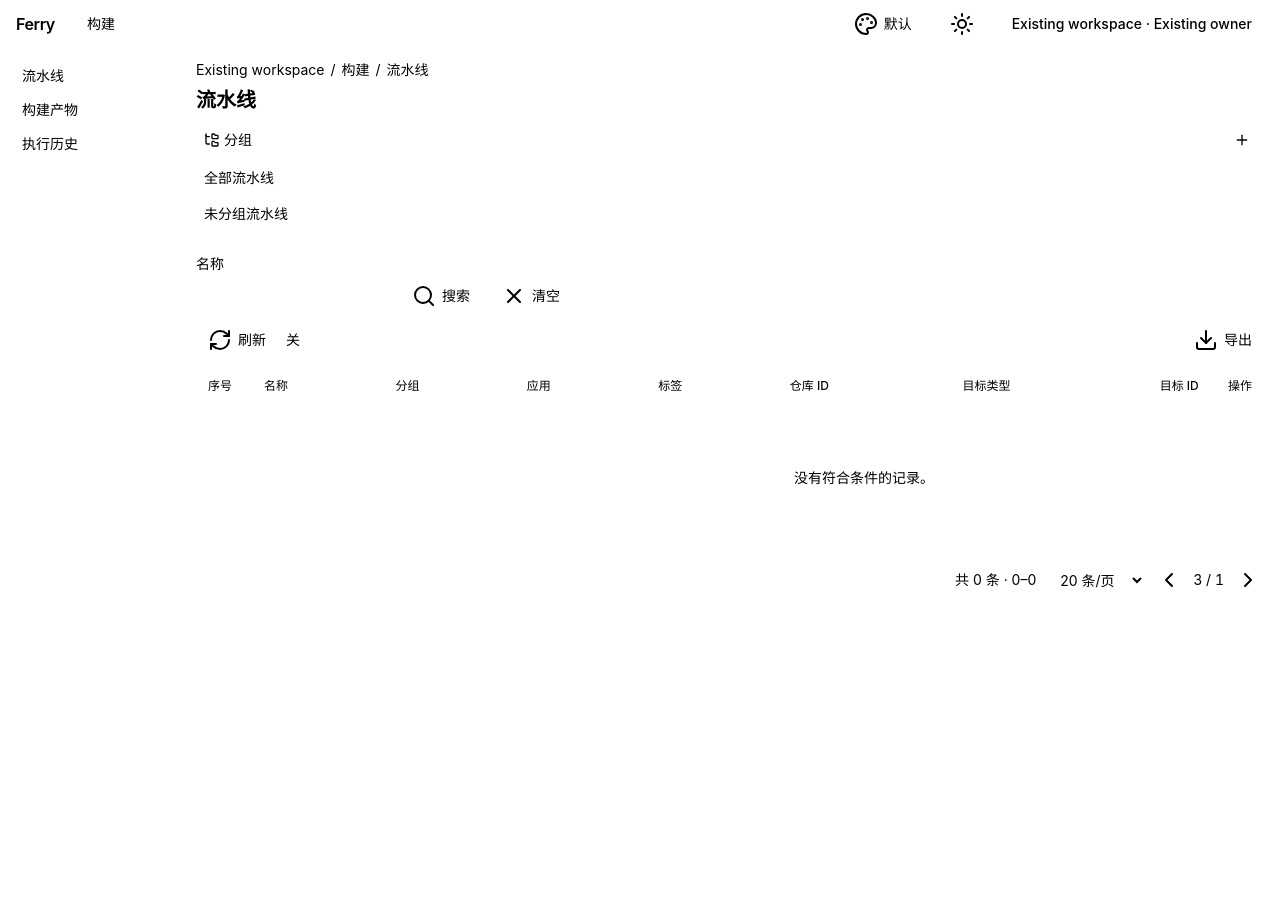
moves pipeline group filtering into a left directory
Expected: the element named "流水线分组" shows "全部流水线", x1=196 y1=126 x2=1264 y2=242
Expected: the element named "流水线分组" shows "未分组流水线", x1=196 y1=126 x2=1264 y2=242
Click the button "未分组流水线": (225, 214) x1=196 y1=198 x2=1264 y2=230
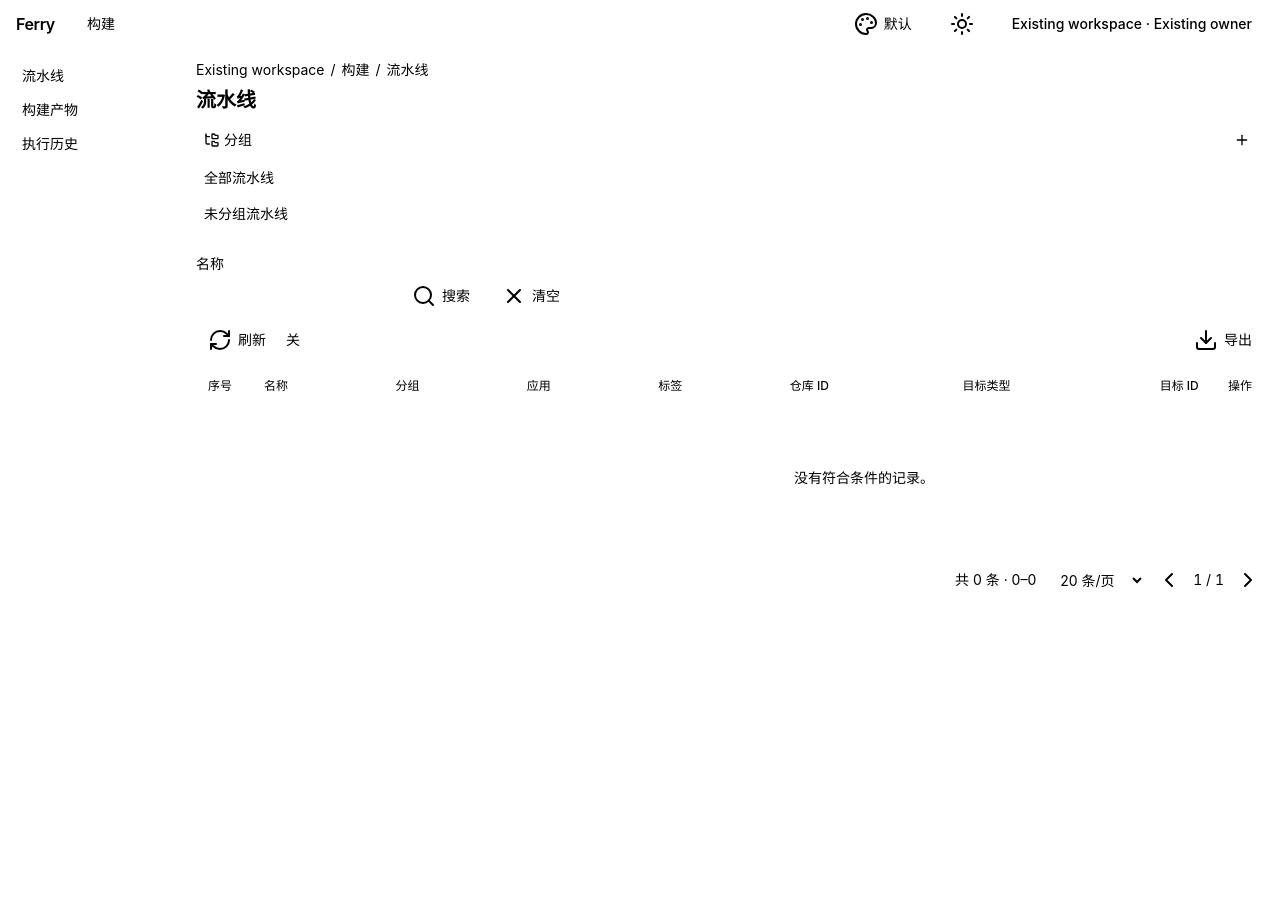
Click the button named "新建分组": (1242, 140) x1=1228 y1=126 x2=1256 y2=154
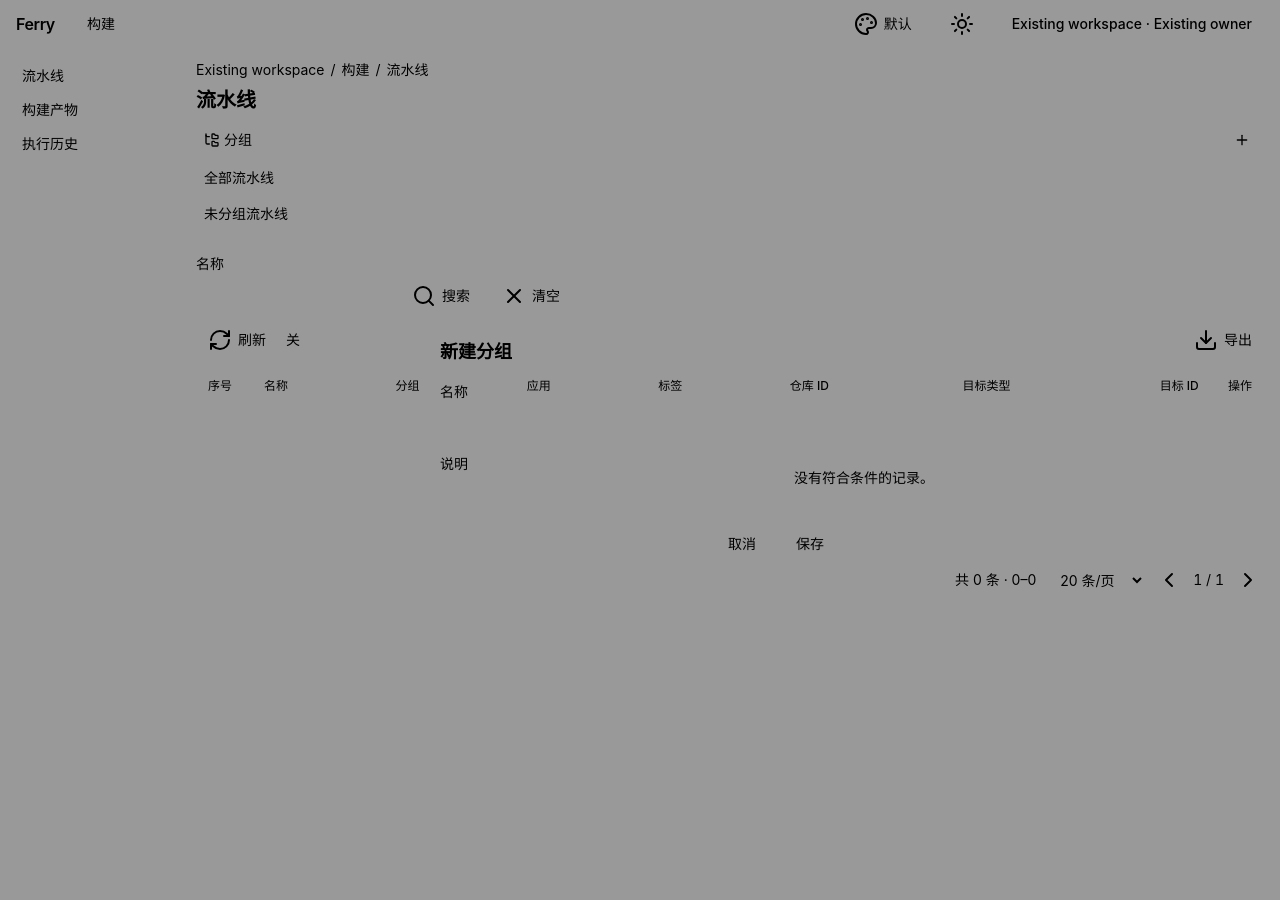
Expected: the dialog shows "新建分组", x1=440 y1=341 x2=512 y2=362
